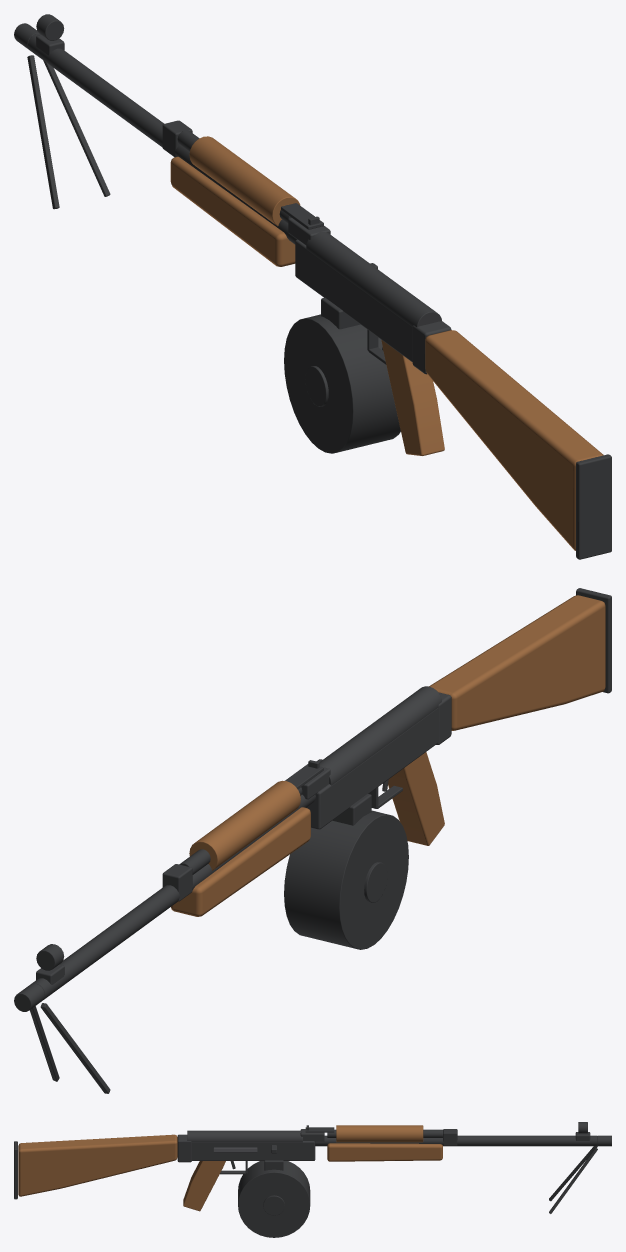
The model's file is rpk.glb.
3 views of the same model, one above another, from view 1: azimuth 30°, elevation 25°; view 2: azimuth 150°, elevation 25°; view 3: azimuth 270°, elevation 25° (orthographic). The views are drawn at different scales.
Visible parts, largest first — view 1: Stock, Mag_body, LowerHandguard, Receiver, Grip, DustCover, Barrel, UpperHandguard, Buttplate, BipodL, BipodR, RearTrunnion (+1 smaller); view 2: Stock, Mag_body, LowerHandguard, Receiver, Barrel, UpperHandguard, DustCover, Grip, Buttplate, BipodL, GasBlock, Mag_body_hub; view 3: Stock, Mag_body, Receiver, LowerHandguard, Barrel, UpperHandguard, DustCover, Grip, RearTrunnion, Mag_body_hub, BipodR, BipodL (+6 smaller).
Boxes of the visible parts, bbox=[...] form: Stock: bbox=[425, 330, 603, 550]; Mag_body: bbox=[284, 314, 400, 453]; LowerHandguard: bbox=[170, 156, 295, 266]; Receiver: bbox=[295, 239, 412, 361]; Grip: bbox=[381, 340, 444, 455]; DustCover: bbox=[306, 232, 441, 327]; Barrel: bbox=[28, 33, 296, 244]; UpperHandguard: bbox=[189, 136, 300, 226]; Buttplate: bbox=[576, 454, 611, 559]; BipodL: bbox=[27, 55, 59, 209]; BipodR: bbox=[43, 60, 110, 196]; RearTrunnion: bbox=[412, 321, 451, 374]; Stock: bbox=[429, 595, 605, 730]; Mag_body: bbox=[284, 810, 408, 949]; LowerHandguard: bbox=[171, 807, 310, 916]; Receiver: bbox=[306, 708, 438, 829]; Barrel: bbox=[31, 794, 315, 999]; UpperHandguard: bbox=[189, 780, 300, 870]; DustCover: bbox=[319, 686, 441, 785]; Grip: bbox=[388, 752, 444, 845]; Buttplate: bbox=[576, 588, 611, 693]; BipodL: bbox=[40, 1003, 110, 1093]; GasBlock: bbox=[162, 864, 192, 901]; Mag_body_hub: bbox=[364, 862, 387, 902]; Stock: bbox=[18, 1134, 177, 1196]; Mag_body: bbox=[238, 1161, 310, 1237]; Receiver: bbox=[191, 1141, 315, 1160]; LowerHandguard: bbox=[327, 1143, 442, 1161]; Barrel: bbox=[315, 1135, 597, 1146]; UpperHandguard: bbox=[336, 1125, 423, 1142]; DustCover: bbox=[187, 1130, 302, 1142]; Grip: bbox=[183, 1161, 225, 1211]; RearTrunnion: bbox=[177, 1134, 191, 1162]; Mag_body_hub: bbox=[263, 1195, 284, 1215]; BipodR: bbox=[549, 1147, 597, 1213]; BipodL: bbox=[549, 1146, 597, 1201].
Size of the model in its own units: 0.077 by 0.2478 by 1.24.
